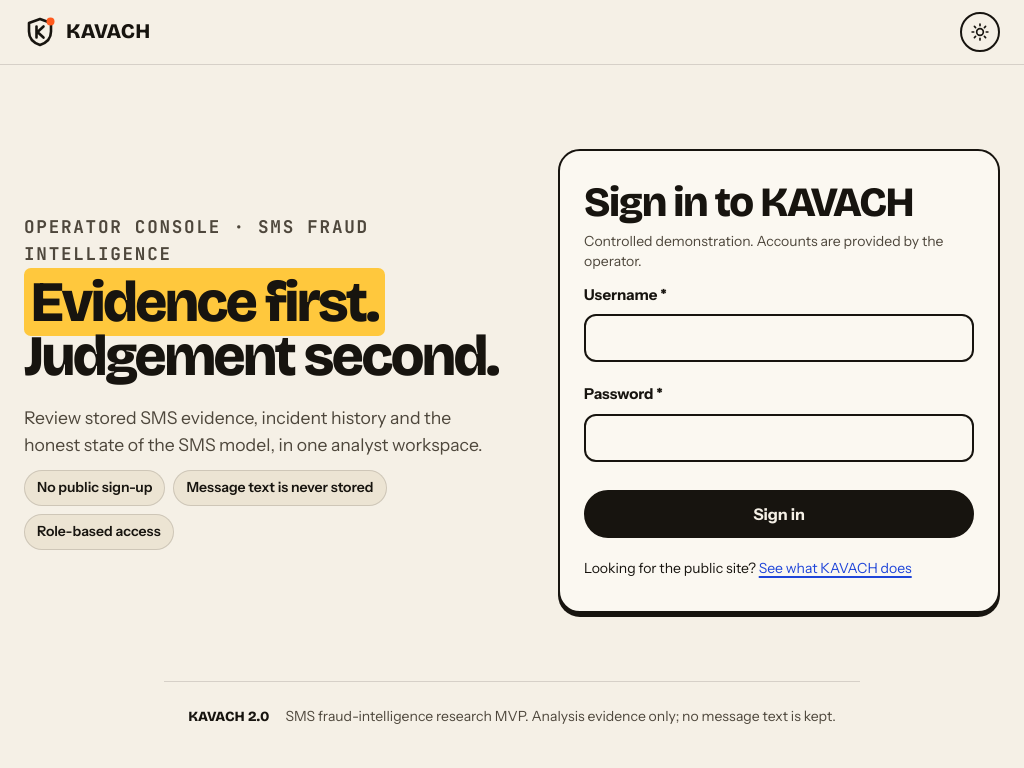
Test: sign in › shows one generic message for wrong credentials and clears the password
Type "analyst.one" into the field labelled "Username *".
click(779, 338); type("analyst.one")  # box [584,314,974,362]
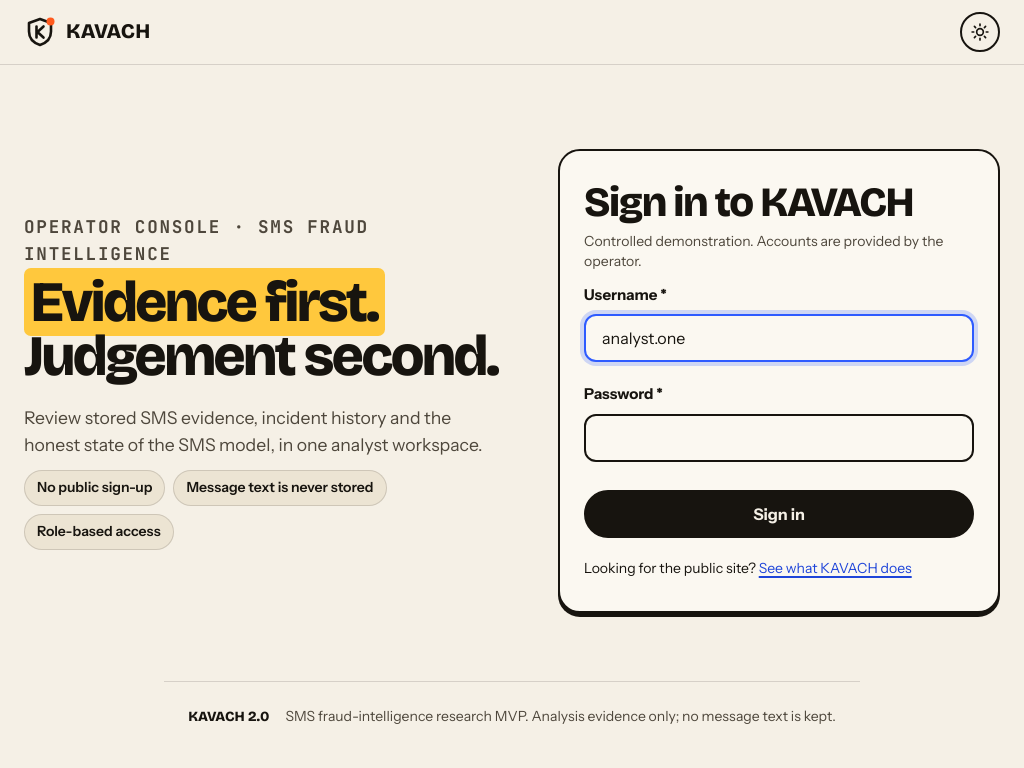
Type "correct horse" into the password field labelled "Password *".
click(779, 438); type("correct horse")  # box [584,414,974,462]
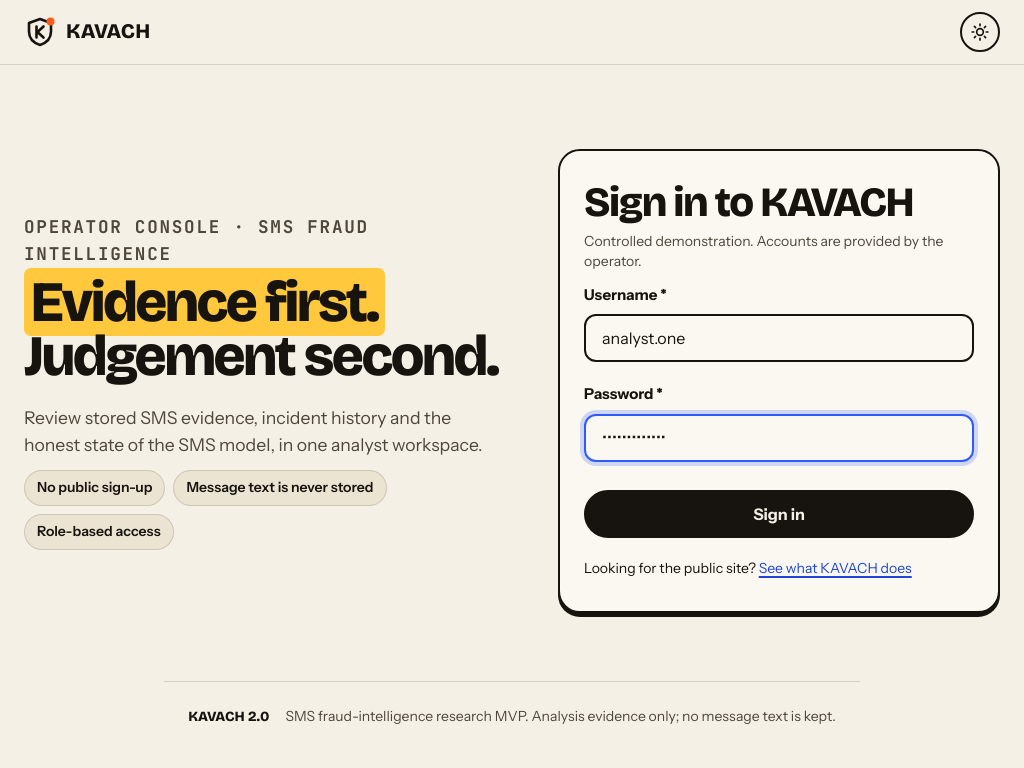
Click the button "Sign in".
click(779, 514)  # box [584,490,974,538]
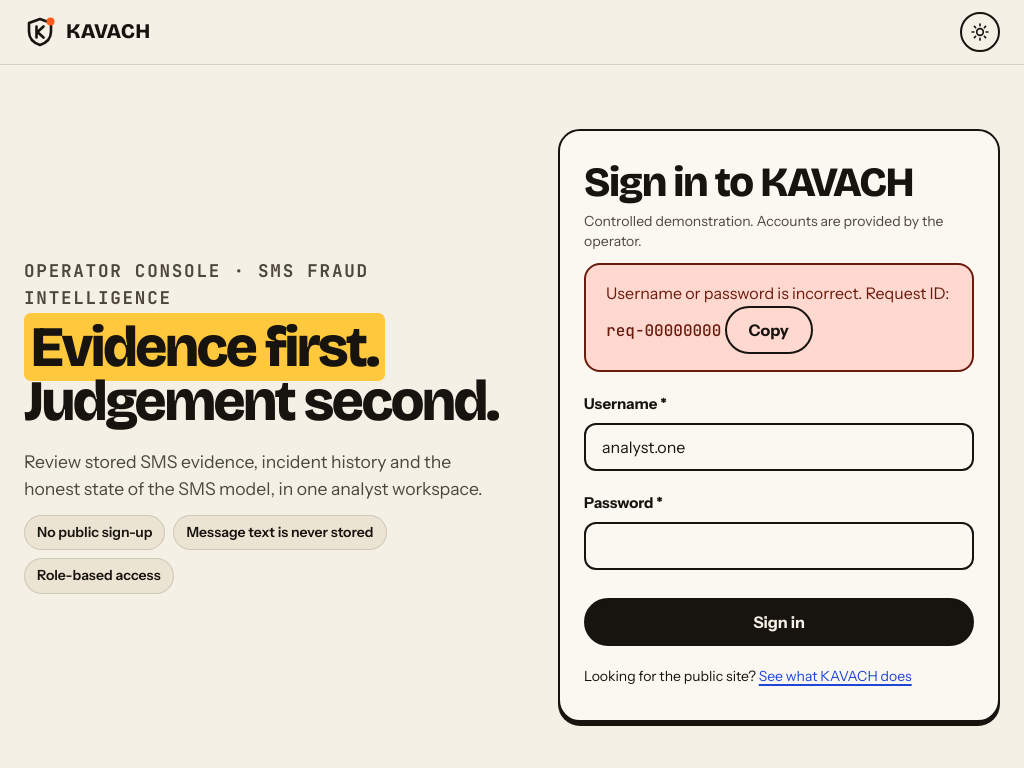
Now the text "Username or password is incorrect. Request ID: req-00000000 Copy" is shown, box [584,263,974,372]
Now the password field labelled "Password *" is empty, box [584,522,974,570]
